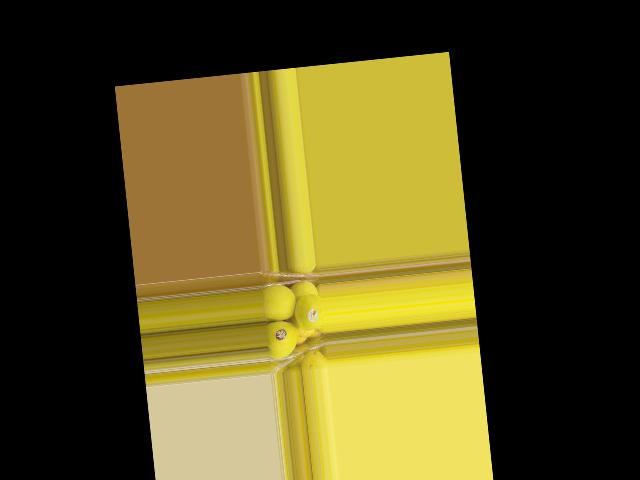apple: (293, 292, 324, 335)
